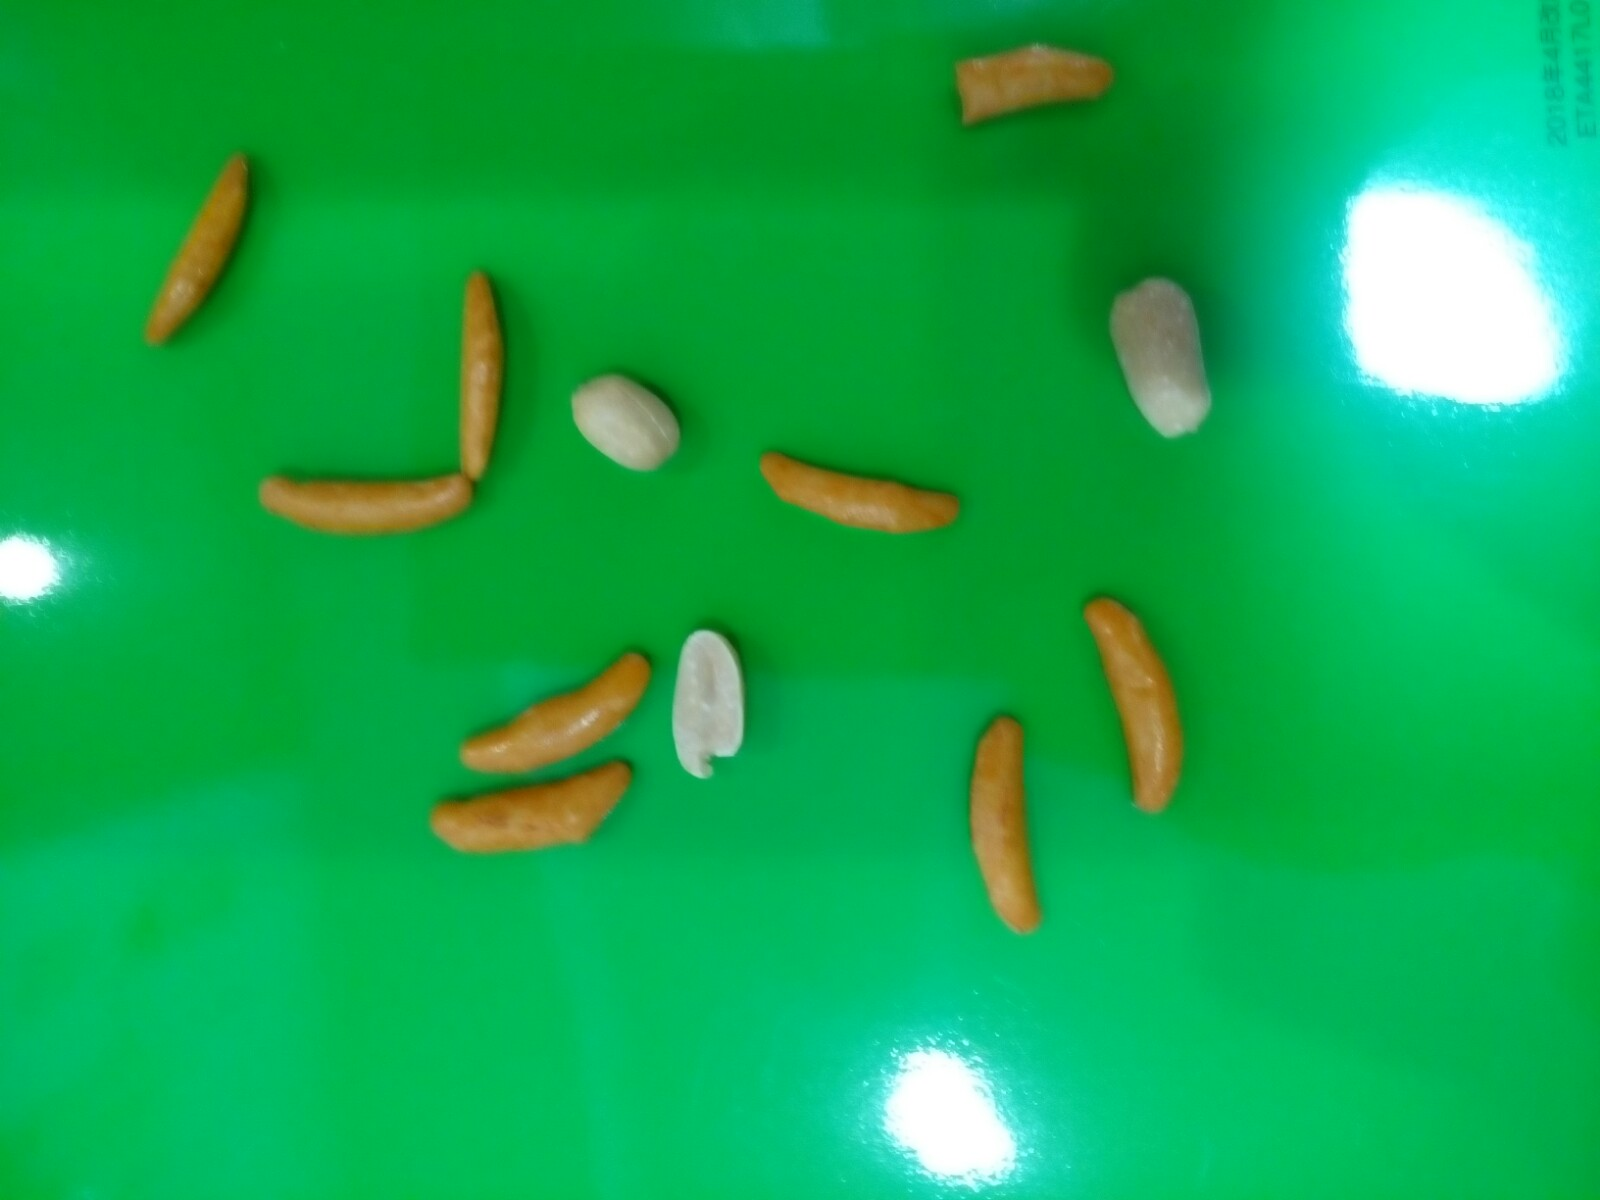peanut: (1099, 265, 1225, 447), (660, 621, 757, 782), (564, 363, 684, 485)
